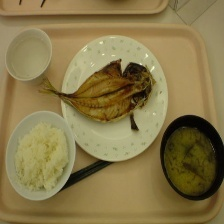rice: (12, 120, 70, 195)
